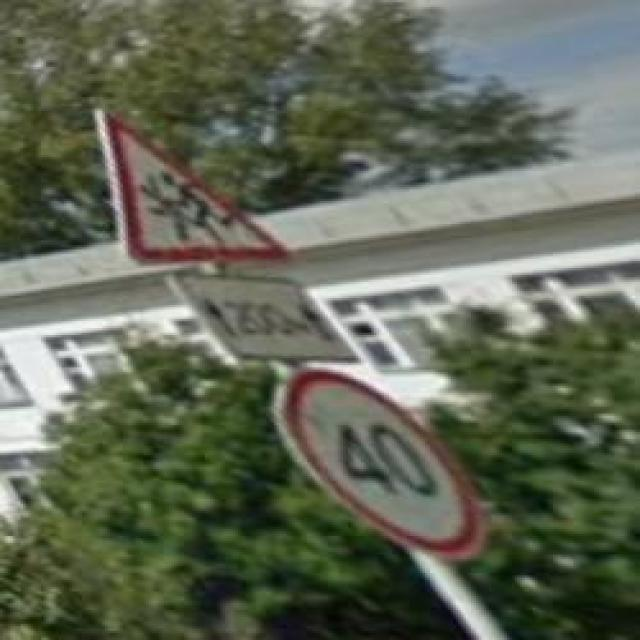traffic_sign: (279, 365, 486, 564), (95, 106, 292, 264)
